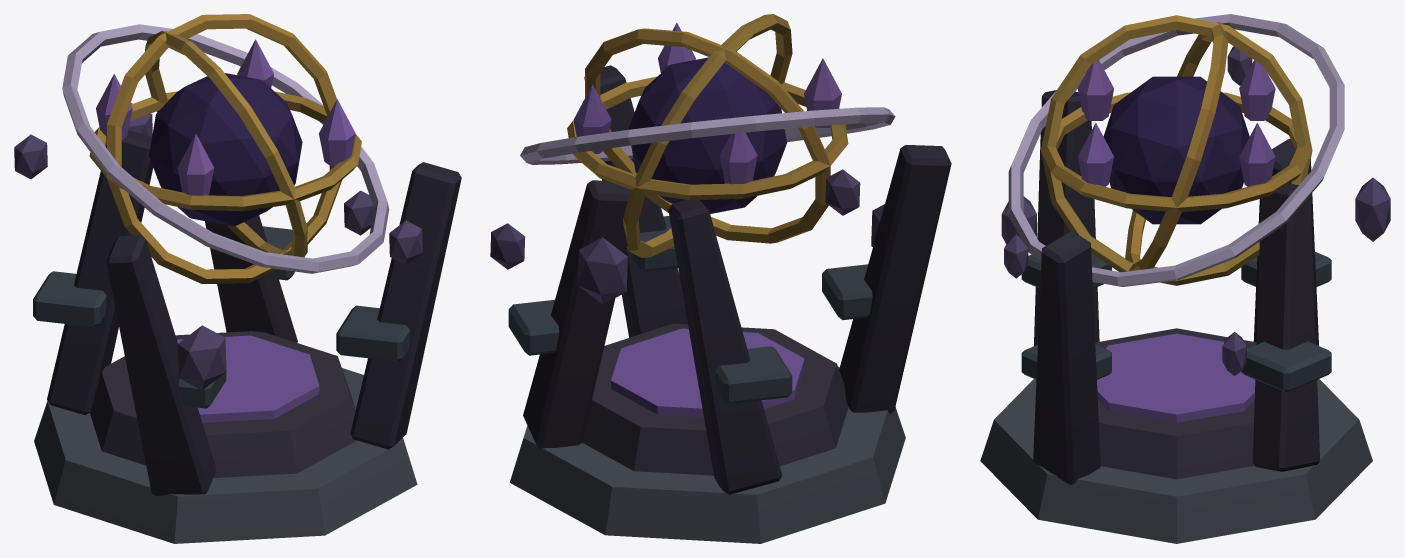
File: def_gravitywell.glb
The picture shows the model from 3 angles, left to right: view 1: azimuth 30°, elevation 25°; view 2: azimuth 150°, elevation 25°; view 3: azimuth 270°, elevation 25°; orthographic projection. The views are drawn at different scales.
Parts seen in each view (by area): view 1: Base, Up3, Up2; view 2: Base, Up2, Up3; view 3: Base, Up3, Up2.
Boxes of the visible parts, x1,y1,x2,y2 form: Base: (34, 14, 461, 543); Up3: (62, 24, 389, 273); Up2: (14, 103, 422, 408); Base: (510, 14, 951, 543); Up2: (490, 169, 884, 403); Up3: (520, 23, 895, 184); Base: (980, 15, 1372, 543); Up3: (1008, 14, 1344, 286); Up2: (1001, 46, 1390, 392).
Size of the model in its own units: 1.8 by 2.06 by 1.8.
